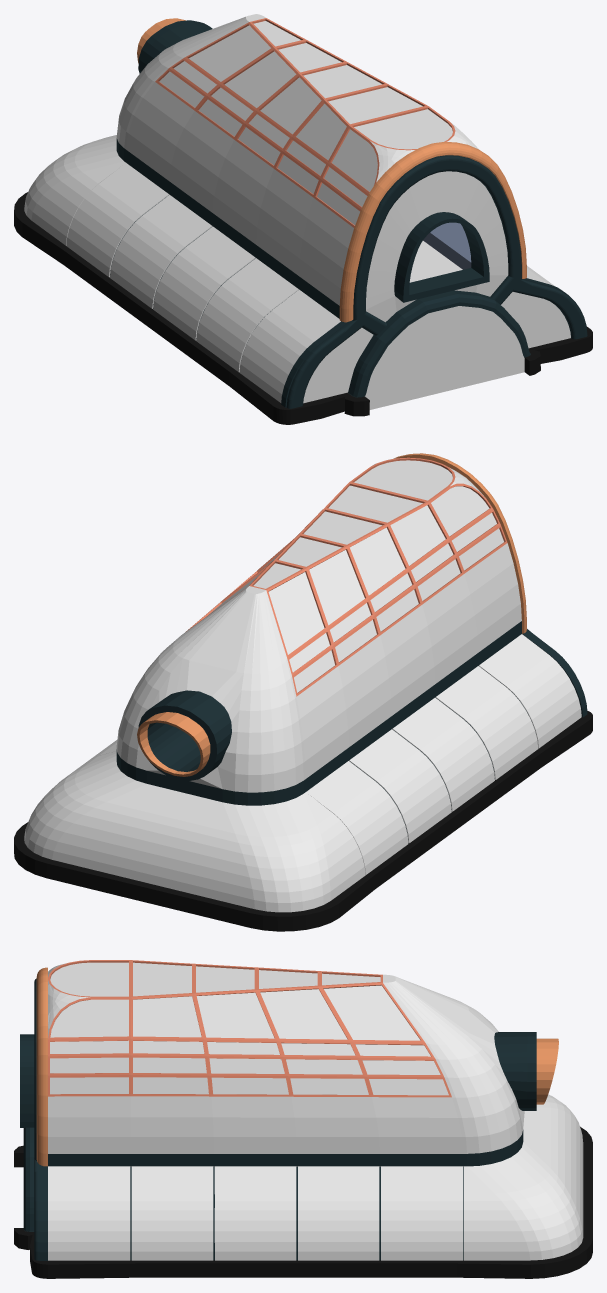
The model's file is TrainStation_01.fbx.
3 renders of one model, top to bottom at view 1: azimuth 30°, elevation 25°; view 2: azimuth 150°, elevation 25°; view 3: azimuth 270°, elevation 25°, orthographic. The views are drawn at different scales.
Visible parts, largest first — view 1: TrainStation_LOD0; view 2: TrainStation_LOD0; view 3: TrainStation_LOD0.
Part boxes in pixels (bbox=[...]): TrainStation_LOD0: bbox=[14, 14, 592, 424]; TrainStation_LOD0: bbox=[14, 453, 592, 931]; TrainStation_LOD0: bbox=[14, 960, 592, 1278].
Size of what is drawn, in the model's own units: 2541 by 1831 by 4182.
